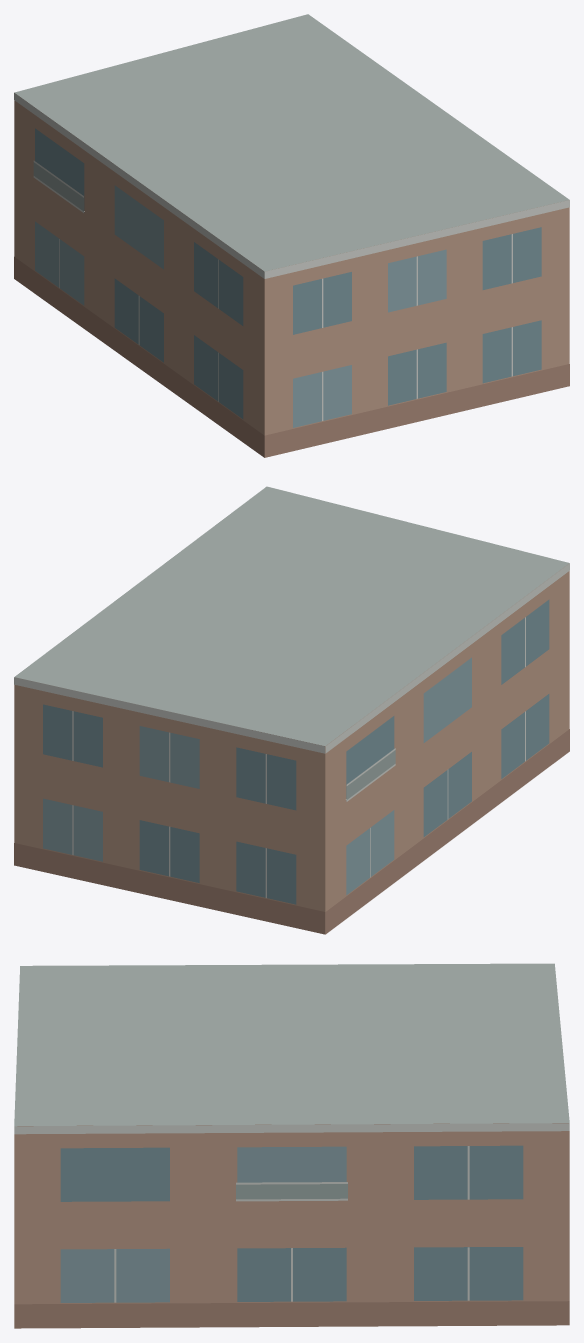
File: survey-upis-33015861.glb
3 renders of one model, top to bottom at view 1: azimuth 30°, elevation 25°; view 2: azimuth 150°, elevation 25°; view 3: azimuth 270°, elevation 25°, orthographic. The views are drawn at different scales.
Parts seen in each view (by area): view 1: survey-upis-33015861.tmp; view 2: survey-upis-33015861.tmp; view 3: survey-upis-33015861.tmp.
Boxes of the visible parts, x1=… form: survey-upis-33015861.tmp: x1=14, y1=14, x2=569, y2=457; survey-upis-33015861.tmp: x1=14, y1=486, x2=569, y2=934; survey-upis-33015861.tmp: x1=14, y1=963, x2=569, y2=1328.
Bounding box in the file's own units: 10.55 × 6.1 × 15.2.
